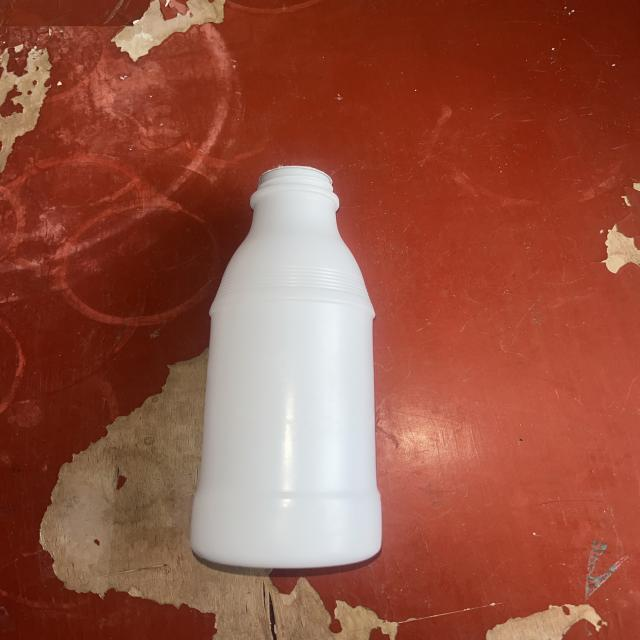HDPE_Bottle: (191, 167, 381, 568)
